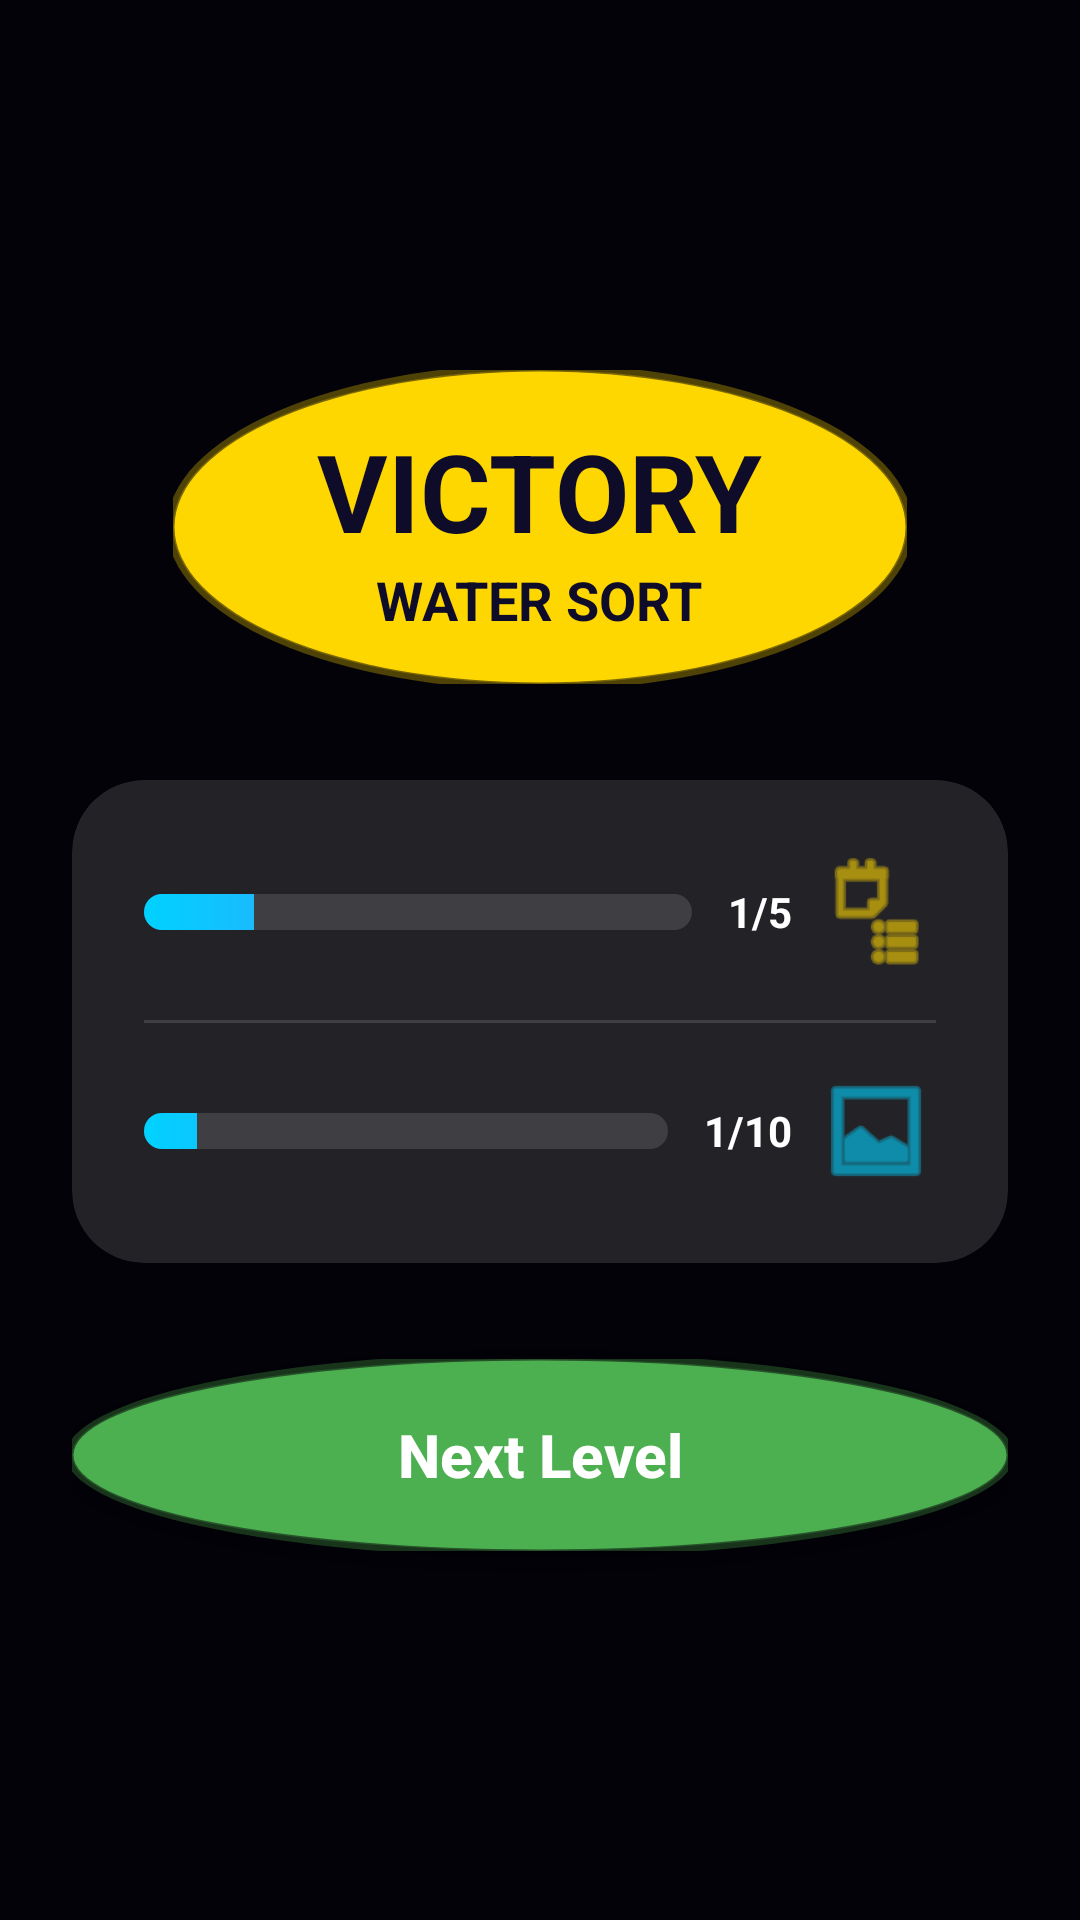

Point at icon controls on the screen. Image size 1080px×1920px, points as [x,y].
Gallery: [876,1131]
